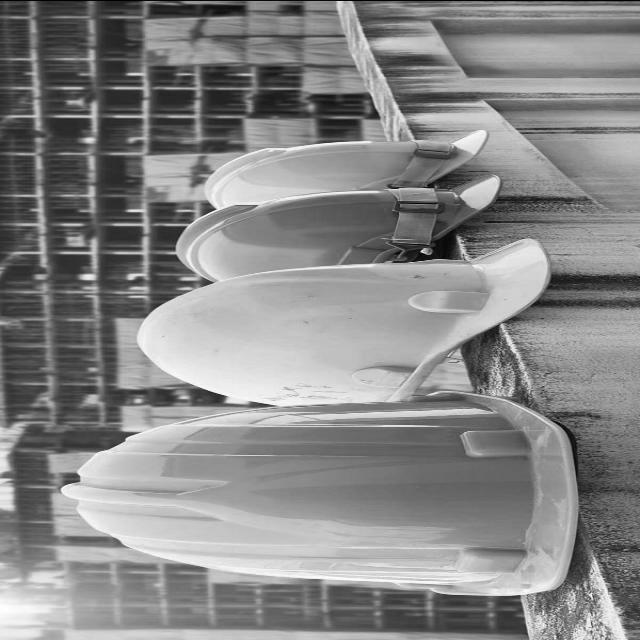construction helmet: (78, 388, 582, 596), (150, 237, 555, 404), (177, 185, 497, 282), (201, 138, 481, 209)
